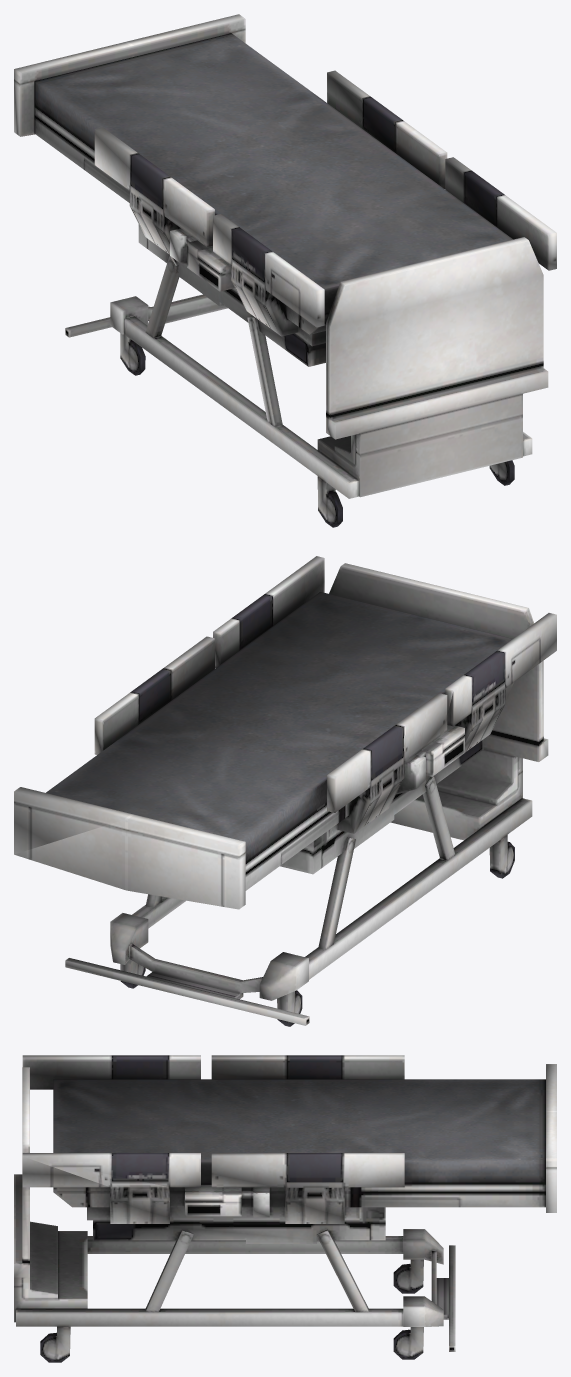
The model's file is BedMedical02.FBX.
3 renders of one model, top to bottom at view 1: azimuth 30°, elevation 25°; view 2: azimuth 150°, elevation 25°; view 3: azimuth 270°, elevation 25°, orthographic. The views are drawn at different scales.
Visible parts, largest first — view 1: BedMedical02; view 2: BedMedical02; view 3: BedMedical02.
Part boxes in pixels (x1,y1,x2,y2): BedMedical02: (14, 14, 556, 527); BedMedical02: (14, 556, 556, 1026); BedMedical02: (14, 1055, 556, 1362).
Size of the model in its own units: 1.01 by 0.9998 by 2.24.
